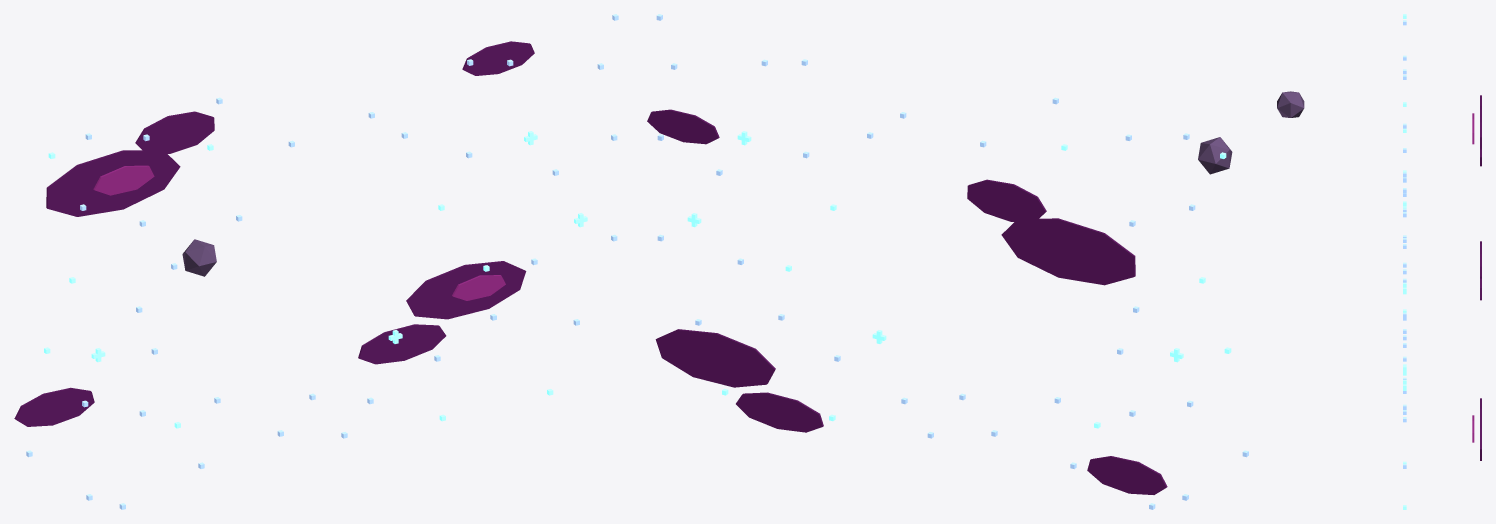
The model's file is sky.glb.
3 views of the same model, side by side, from view 1: azimuth 30°, elevation 25°; view 2: azimuth 150°, elevation 25°; view 3: azimuth 270°, elevation 25° (orthographic). The views are drawn at different scales.
Visible parts, largest first — view 1: Neb0, Neb2, Neb1, Neb3, Neb5, Neb4, Core0, Moon, Core2; view 2: Neb0, Neb2, Neb1, Neb3, Neb5, Neb4, Moon; view 3: Moon.
Part boxes in pixels (x1,y1,x2,y2): Neb0: (46, 150, 180, 216); Neb2: (406, 261, 526, 319); Neb1: (135, 111, 214, 153); Neb3: (358, 324, 446, 364); Neb5: (14, 387, 94, 426); Neb4: (462, 41, 534, 75); Core0: (93, 165, 154, 195); Moon: (182, 239, 216, 276); Core2: (452, 275, 505, 300); Neb0: (1001, 218, 1135, 285); Neb2: (655, 329, 775, 387); Neb1: (967, 179, 1046, 221); Neb3: (736, 392, 823, 432); Neb5: (1087, 456, 1167, 494); Neb4: (647, 109, 719, 144); Moon: (1198, 137, 1232, 174); Moon: (1277, 91, 1304, 117).
Bounding box in the file's own units: 14.63 × 9.15 × 5.38.
